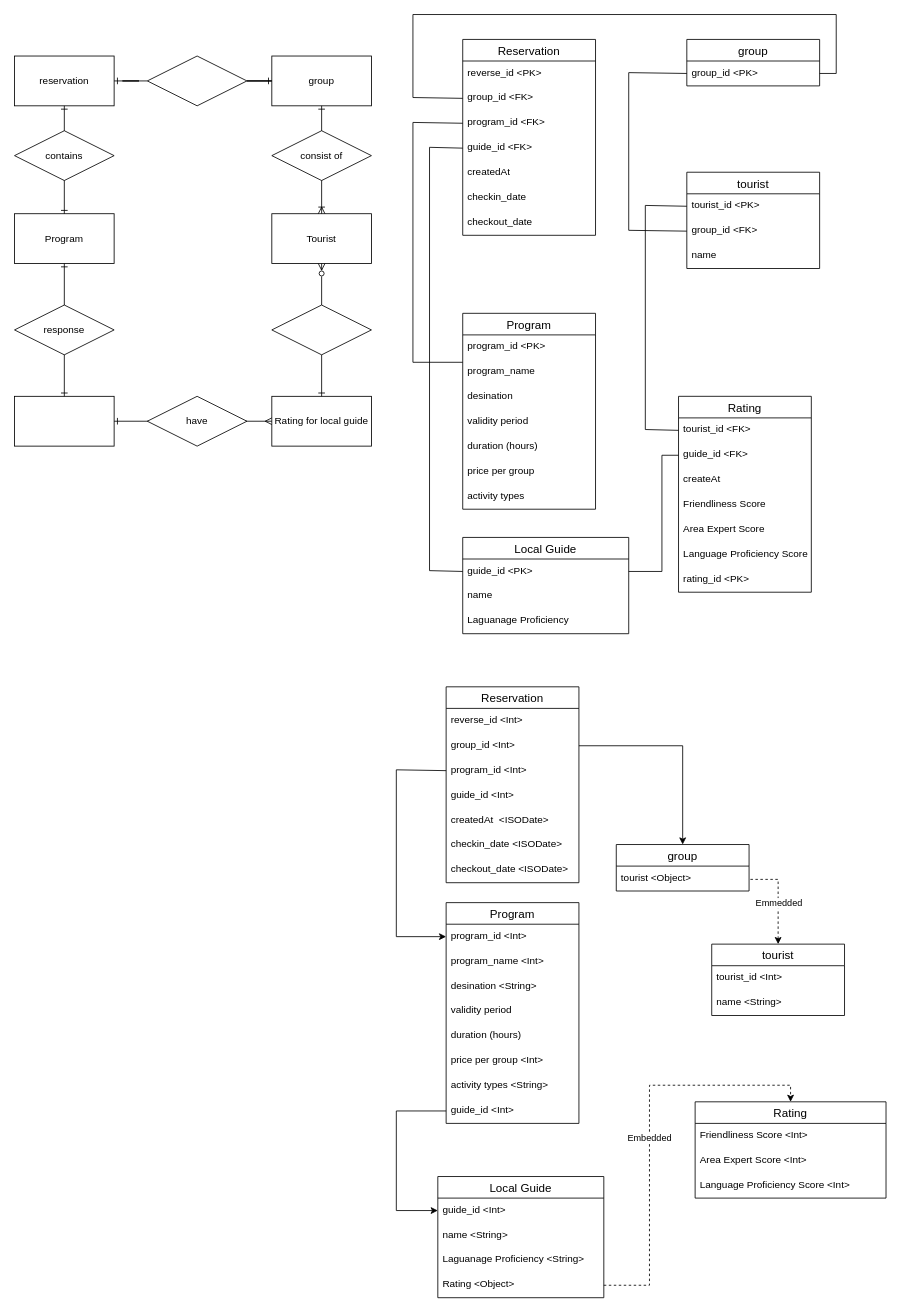
This 901x1315 diagram has some shape labels left out. Each missing label, with the centre of its shape:
"book" goes at (196,80).
"comments" goes at (321,329).
"Local guides" goes at (64,420).
